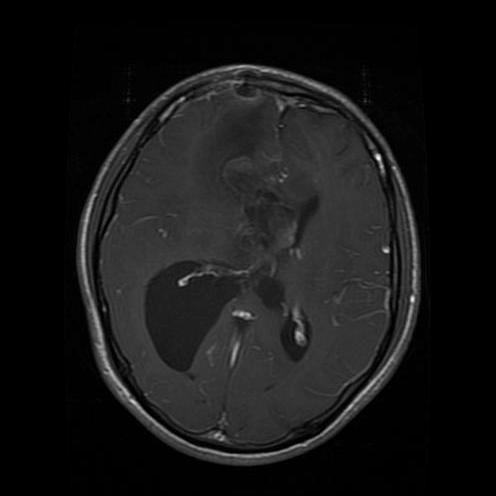Tumour-Glioma: (149, 251, 235, 373)
